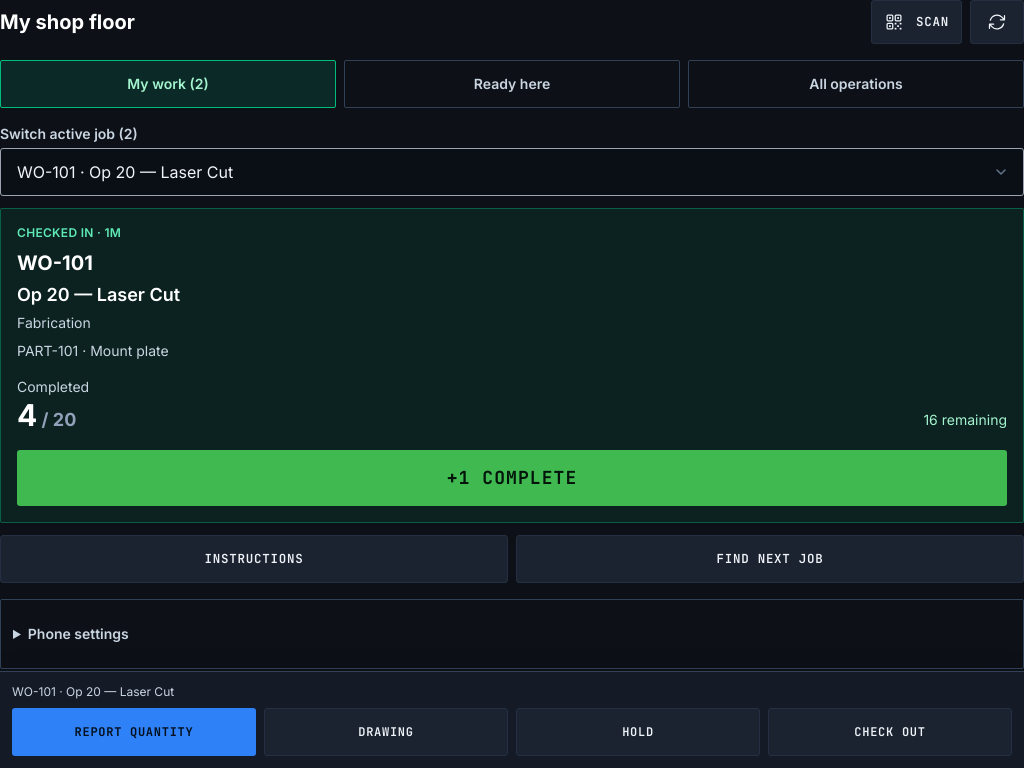
Test: ShopFloorSimple phone workspace › loads the selected operation instructions directly from current work
The width and height of the screenshot is (1024, 768).
Select "WO-102 · Op 20 — Brake Form" in the dropdown labelled "Switch active job (2)": (512, 172) x1=0 y1=148 x2=1023 y2=196
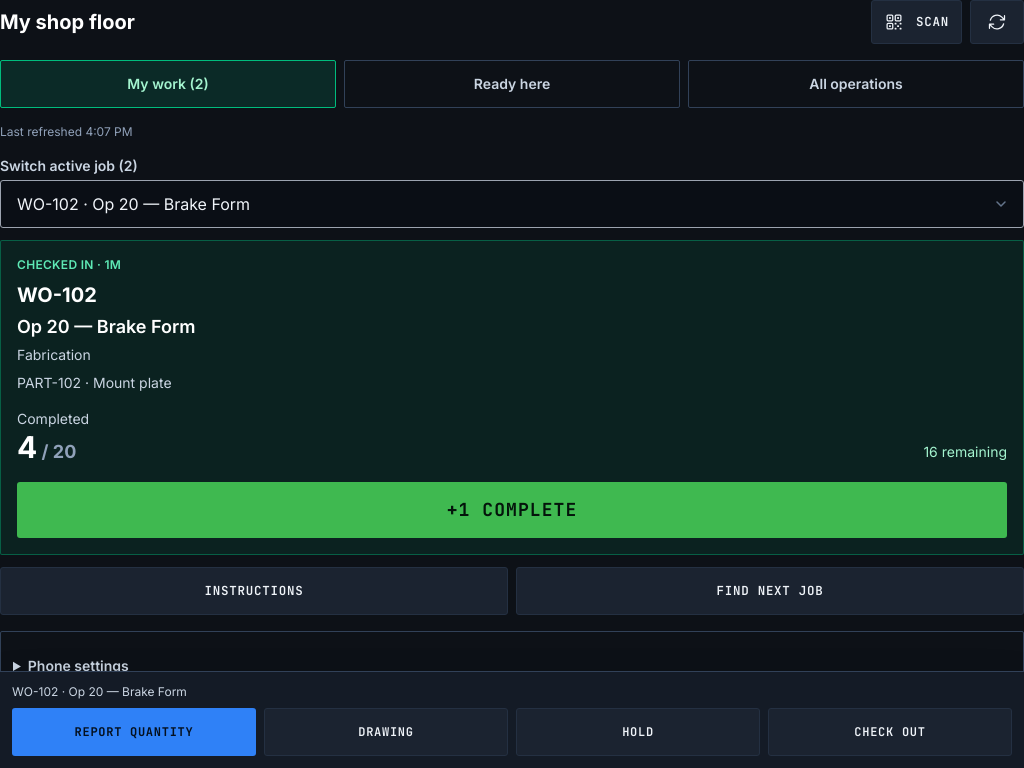
Click the button "Instructions": (254, 591) x1=0 y1=567 x2=508 y2=615
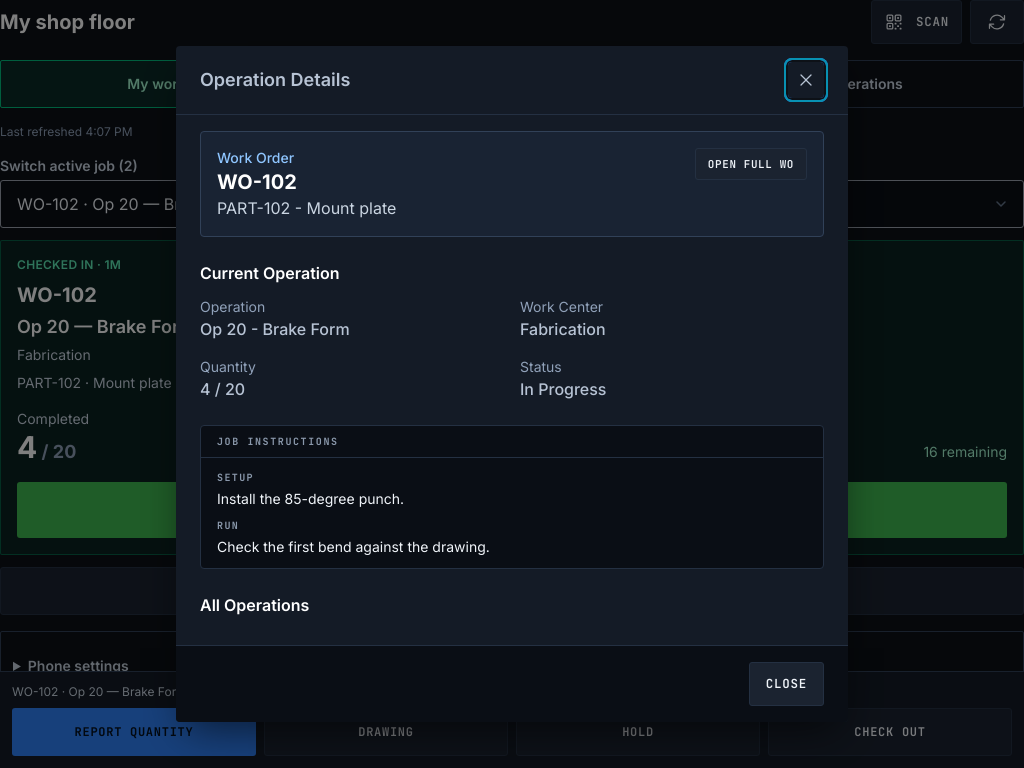
Expected: the text "Install the 85-degree punch." is shown, x1=217 y1=490 x2=404 y2=507
Expected: the text "Check the first bend against the drawing." is shown, x1=217 y1=538 x2=490 y2=555
